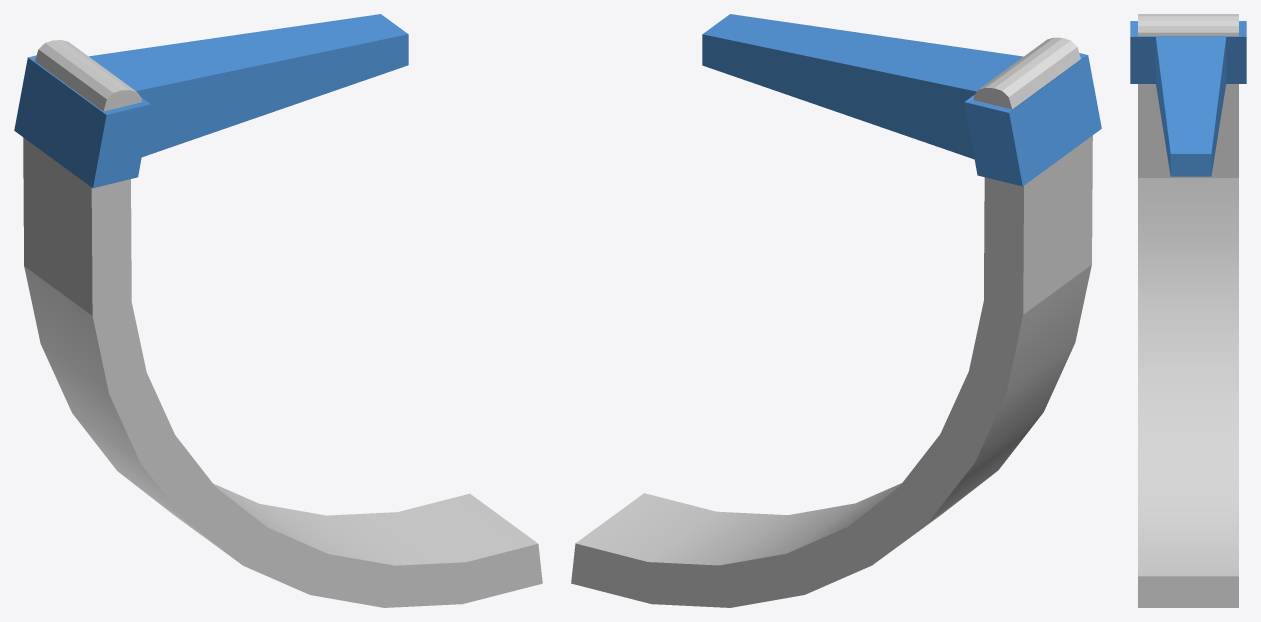
Rendered from engel.fbx.
3 renders of one model, left to right at view 1: azimuth 30°, elevation 25°; view 2: azimuth 150°, elevation 25°; view 3: azimuth 270°, elevation 25°, orthographic. The views are drawn at different scales.
Parts seen in each view (by area): view 1: Cylinder.007; view 2: Cylinder.007; view 3: Cylinder.007.
Boxes of the visible parts, x1=… form: Cylinder.007: x1=14, y1=14, x2=542, y2=607; Cylinder.007: x1=571, y1=14, x2=1101, y2=607; Cylinder.007: x1=1130, y1=14, x2=1246, y2=607.
Size of the model in its own units: 92.32 by 116 by 27.67.
